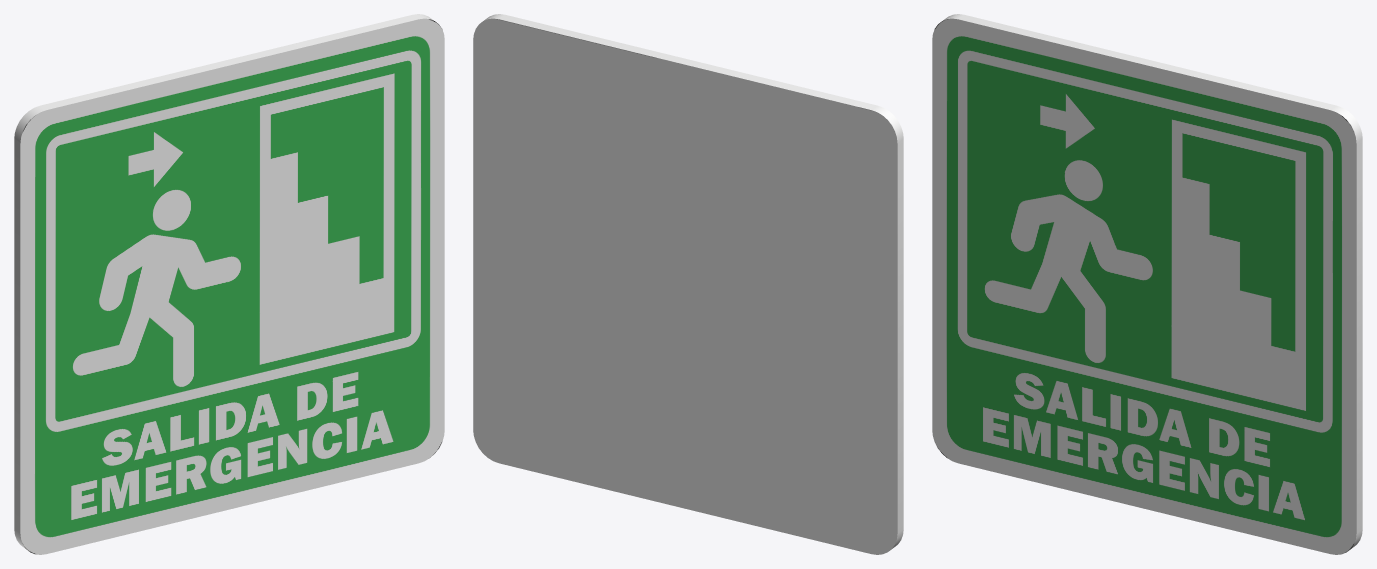
Rendered from señales6.fbx.
The picture shows the model from 3 angles, left to right: view 1: azimuth 30°, elevation 25°; view 2: azimuth 150°, elevation 25°; view 3: azimuth 330°, elevation 25°; orthographic projection.
Parts seen in each view (by area): view 1: salida de emergencia derecha_0; view 2: salida de emergencia derecha_0; view 3: salida de emergencia derecha_0.
Boxes of the visible parts, left/top/right/bottom form: salida de emergencia derecha_0: left=14, top=14, right=444, bottom=554; salida de emergencia derecha_0: left=473, top=14, right=903, bottom=554; salida de emergencia derecha_0: left=932, top=14, right=1362, bottom=554.
Bounding box in the file's own units: 20 × 20 × 0.5095.
